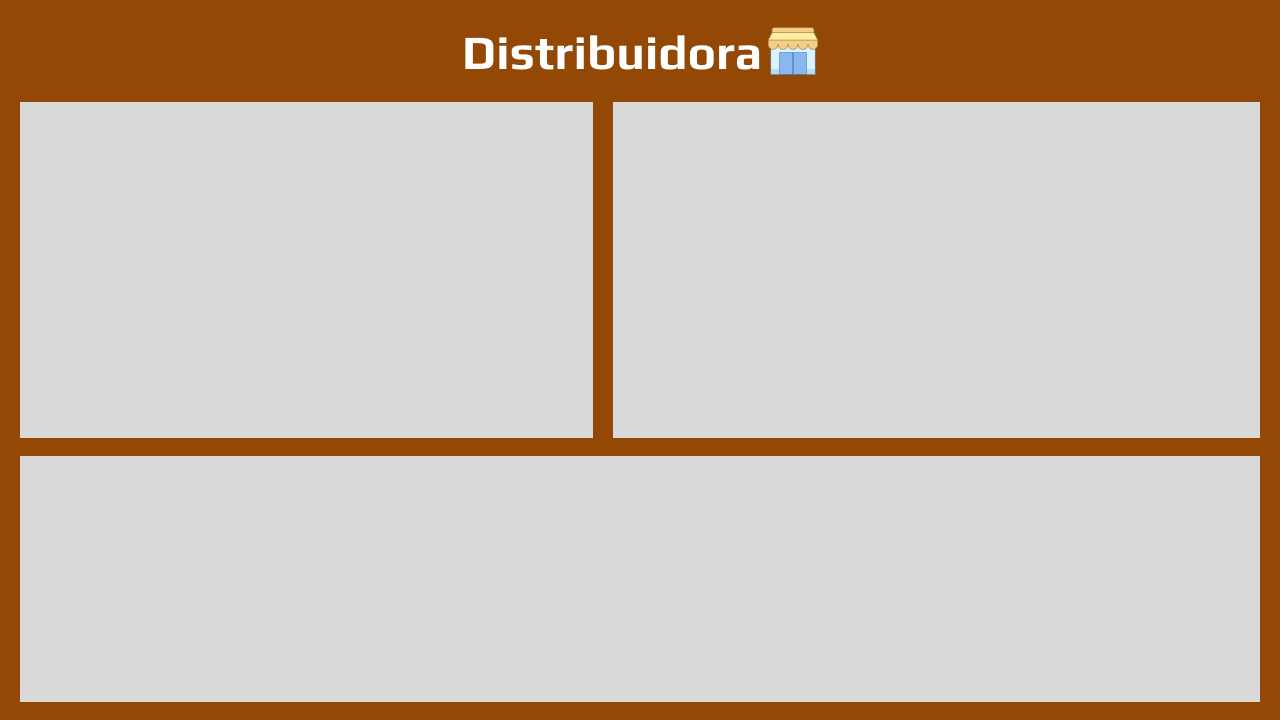

Layout of this report page (visuals, bound fields, positions):
{"tool":"powerbi","page":{"name":"Influência da Distribuidora","canvas":[1280,720],"ordinal":5},"visuals":[{"type":"barChart","title":"Vendas Por Distribuidora","fields":{"Y":["Sum(games-Final.Vendas_Totais)"],"Category":["games-Final.Distribuidora"],"Series":["games-Final.Distribuidora"]},"box":[19.2,97.4,579.1,336.2],"z":1000},{"type":"areaChart","title":"Média de Vendas por Distribuidora (Top 10)","fields":{"Category":["games-Final.Distribuidora"],"Y":["Avg(games-Final.Vendas_Totais)"],"Y2":["Avg(games-Final.Vendas_EUA)","Avg(games-Final.Vendas_JP)"]},"box":[612,97.4,651.8,336.2],"z":2000},{"type":"lineStackedColumnComboChart","title":"Quantidade de Jogos Lançados Por Distribuidora","fields":{"Category":["games-Final.Distribuidora"],"Y":["Count(games-Final.Titulo)"],"Series":["games-Final.Distribuidora"]},"box":[19.2,454.2,1244.6,247],"z":3000}]}

Visuals, with their boxes in screenshot pixels (x1, y1, x2, y2), scaled from the page's 1280x720 canvas onto the 1280x720 screenshot:
"Vendas Por Distribuidora" barChart: box=[19, 97, 598, 434]
"Média de Vendas por Distribuidora (Top 10)" areaChart: box=[612, 97, 1264, 434]
"Quantidade de Jogos Lançados Por Distribuidora" lineStackedColumnComboChart: box=[19, 454, 1264, 701]
